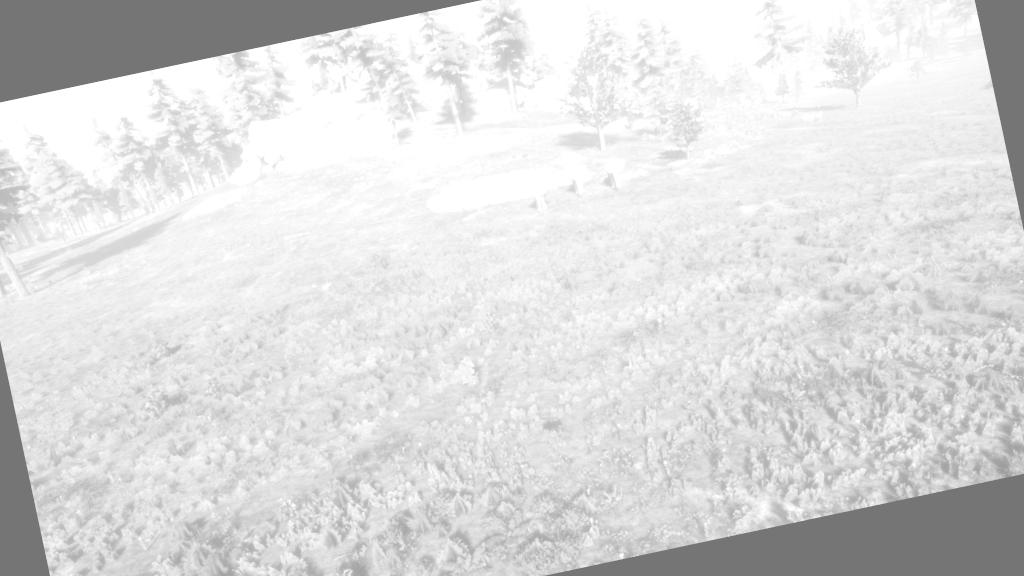elephant: (521, 169, 560, 218), (600, 151, 634, 198), (564, 160, 594, 201)
